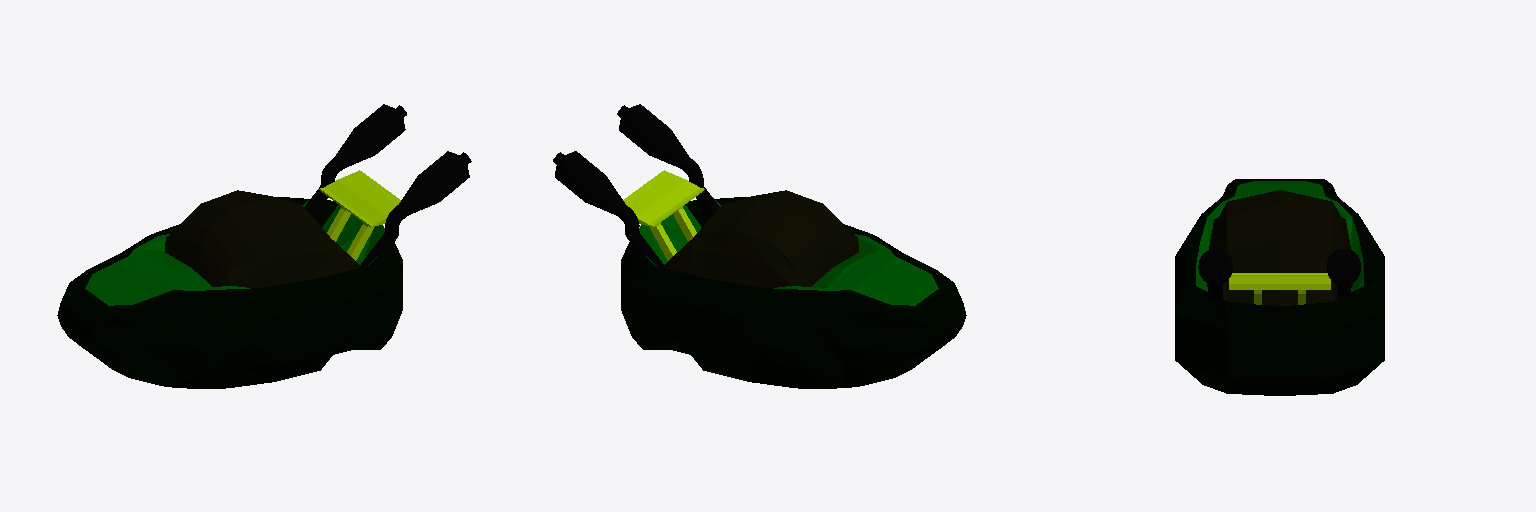
Rendered from AvocatTuning.obj.
3 renders of one model, left to right at view 1: azimuth 30°, elevation 25°; view 2: azimuth 150°, elevation 25°; view 3: azimuth 270°, elevation 25°, orthographic.
Visible parts, largest first — view 1: Cube, Cylinder, Cube.001; view 2: Cube, Cylinder, Cube.001; view 3: Cube, Cylinder, Cube.001.
Part boxes in pixels (bbox=[...]): Cube: bbox=[57, 190, 402, 388]; Cylinder: bbox=[304, 104, 471, 267]; Cube.001: bbox=[319, 170, 400, 260]; Cube: bbox=[621, 190, 966, 388]; Cylinder: bbox=[553, 104, 719, 267]; Cube.001: bbox=[623, 170, 704, 260]; Cube: bbox=[1175, 179, 1384, 395]; Cylinder: bbox=[1198, 248, 1360, 298]; Cube.001: bbox=[1229, 273, 1330, 304].
Size of the model in its own units: 7.97 by 3.65 by 4.